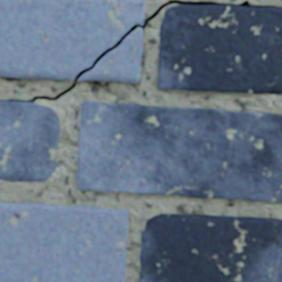brick: (76, 101, 281, 202), (158, 5, 281, 94), (0, 201, 128, 281), (139, 213, 281, 281), (0, 100, 60, 181)
broken_brick: (0, 0, 145, 79), (78, 28, 143, 83)
crack: (0, 0, 281, 102)
